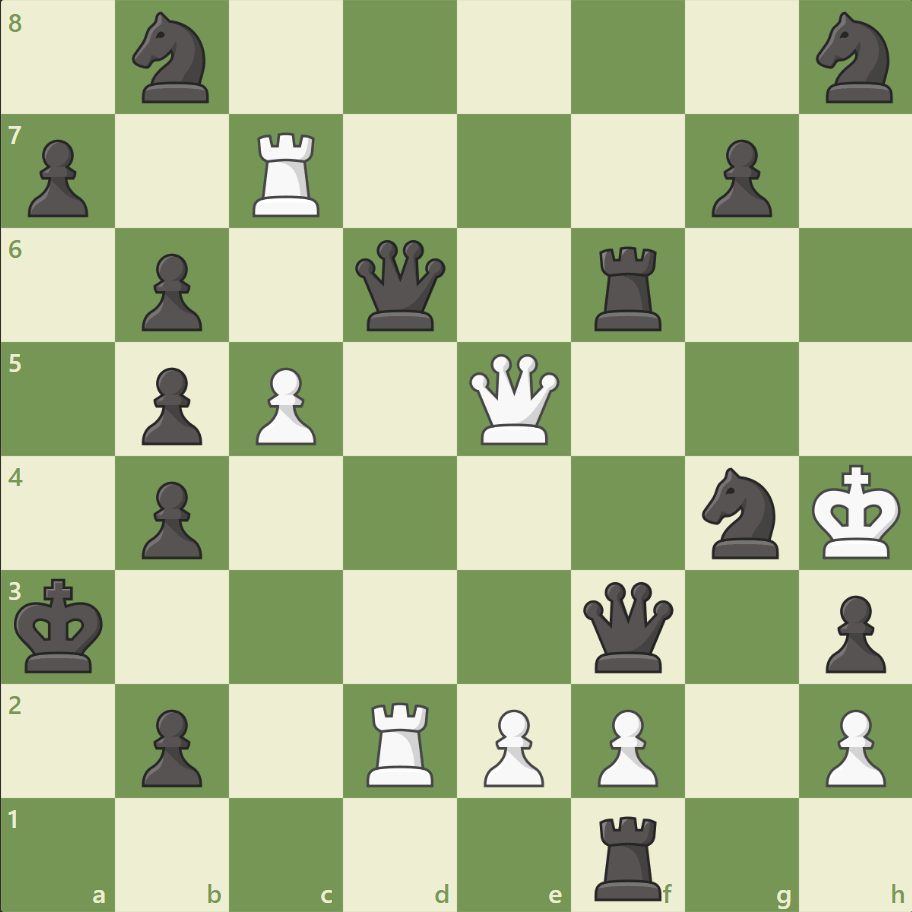K: (806, 458, 906, 566)
P: (247, 359, 322, 450), (474, 700, 549, 791), (588, 700, 662, 791), (815, 700, 889, 791)
Q: (464, 349, 563, 449)
R: (246, 125, 329, 222), (360, 693, 442, 790)
k: (11, 571, 111, 679)
n: (124, 7, 222, 110), (806, 7, 903, 110), (692, 461, 789, 564)
p: (20, 132, 95, 223), (701, 132, 776, 223), (133, 246, 208, 337), (133, 359, 208, 450), (133, 473, 208, 564), (133, 700, 208, 791), (815, 586, 889, 677)
q: (578, 576, 677, 676), (351, 236, 450, 335)
r: (587, 806, 670, 904), (587, 239, 670, 336)
